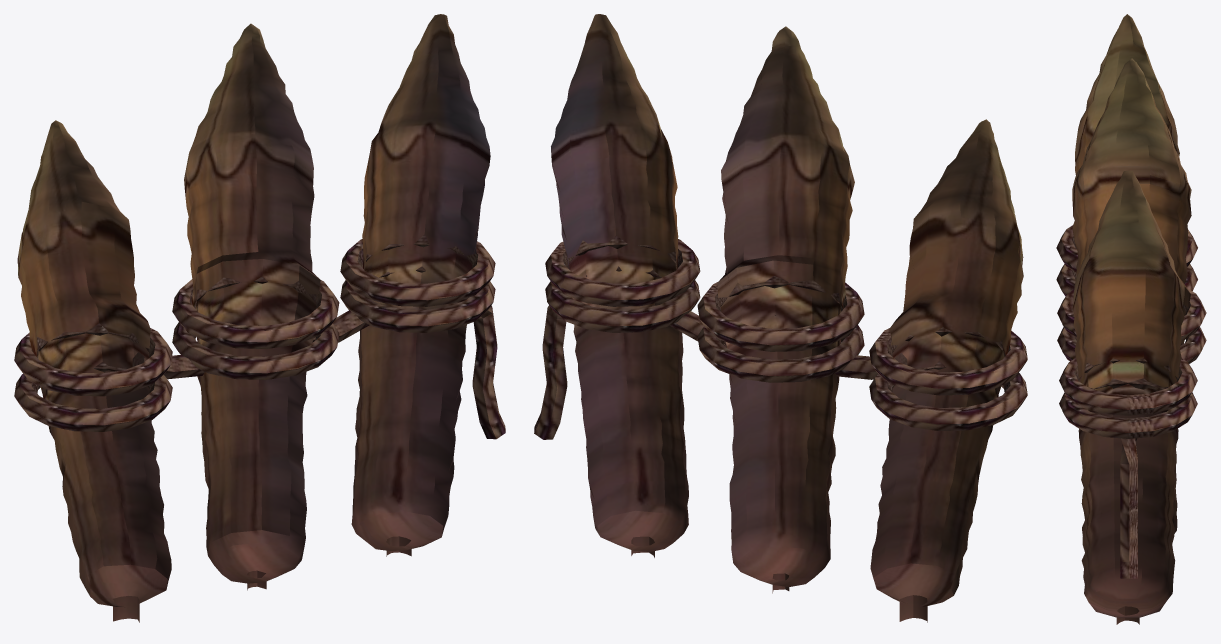
File: palissade.glb
3 renders of one model, left to right at view 1: azimuth 30°, elevation 25°; view 2: azimuth 150°, elevation 25°; view 3: azimuth 270°, elevation 25°, orthographic. The views are drawn at different scales.
Parts seen in each view (by area): view 1: maison; view 2: maison; view 3: maison.
Part boxes in pixels (left/top/right/bottom): maison: left=14, top=14, right=505, bottom=622; maison: left=534, top=14, right=1027, bottom=622; maison: left=1056, top=14, right=1206, bottom=624.
Bounding box in the file's own units: 1.89 × 2.13 × 0.5744.
1 material, 1 textured.
